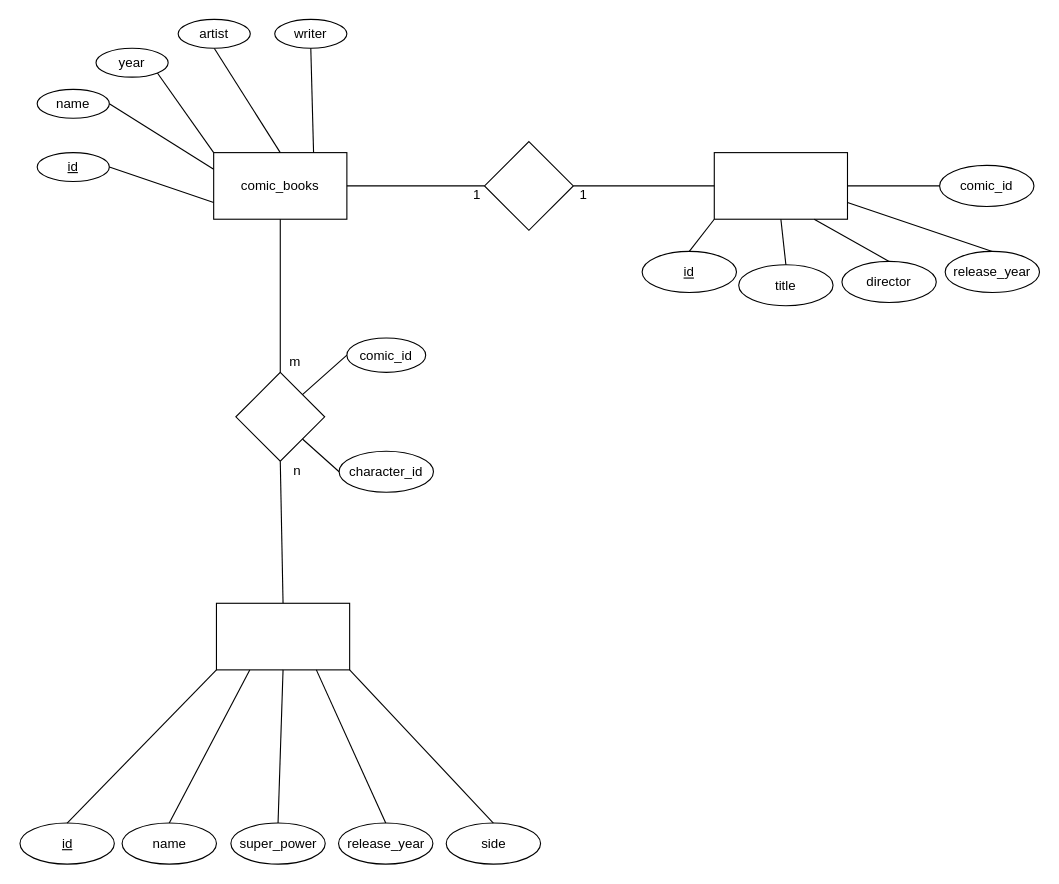
Some shapes in this 1059 by 884 pixel diagram are drawn without their labels. Each missing label, with the centre of its shape:
"characters" belongs at (x=282, y=636).
"inspired by" belongs at (x=528, y=185).
"movies" belongs at (x=780, y=185).
"participants" belongs at (x=280, y=416).
